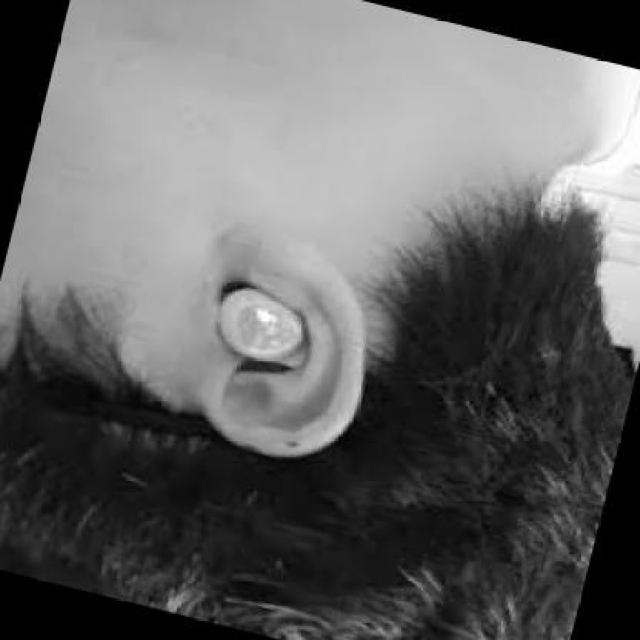earphone: (208, 263, 354, 419)
